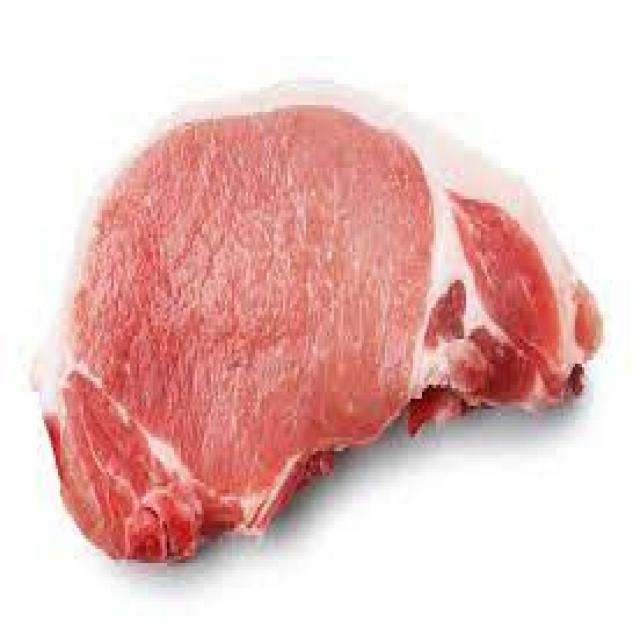Pork: (37, 87, 605, 561)
